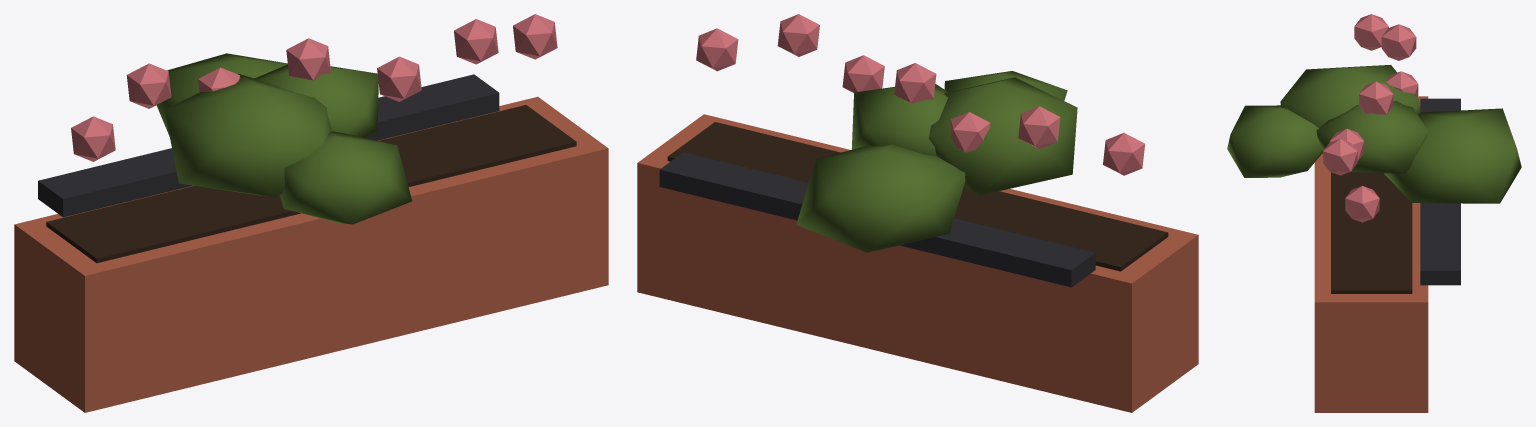
File: city_balcony_planter.glb
3 renders of one model, left to right at view 1: azimuth 30°, elevation 25°; view 2: azimuth 150°, elevation 25°; view 3: azimuth 270°, elevation 25°, orthographic. The views are drawn at different scales.
Visible parts, largest first — view 1: CityBalconyPlanter_Box, CityBalconyPlanter_Greens, CityBalconyPlanter_Soil, CityBalconyPlanter_Hook, CityBalconyPlanter_Blooms; view 2: CityBalconyPlanter_Box, CityBalconyPlanter_Greens, CityBalconyPlanter_Soil, CityBalconyPlanter_Hook, CityBalconyPlanter_Blooms; view 3: CityBalconyPlanter_Greens, CityBalconyPlanter_Box, CityBalconyPlanter_Soil, CityBalconyPlanter_Blooms, CityBalconyPlanter_Hook.
Part boxes in pixels (x1=…): CityBalconyPlanter_Box: x1=14, y1=96, x2=608, y2=412; CityBalconyPlanter_Greens: x1=156, y1=53, x2=412, y2=224; CityBalconyPlanter_Soil: x1=46, y1=105, x2=576, y2=262; CityBalconyPlanter_Hook: x1=38, y1=74, x2=499, y2=217; CityBalconyPlanter_Blooms: x1=71, y1=14, x2=557, y2=161; CityBalconyPlanter_Box: x1=637, y1=114, x2=1198, y2=412; CityBalconyPlanter_Greens: x1=796, y1=71, x2=1077, y2=252; CityBalconyPlanter_Soil: x1=667, y1=122, x2=1168, y2=271; CityBalconyPlanter_Hook: x1=659, y1=152, x2=1095, y2=287; CityBalconyPlanter_Blooms: x1=696, y1=14, x2=1144, y2=175; CityBalconyPlanter_Greens: x1=1227, y1=65, x2=1521, y2=203; CityBalconyPlanter_Box: x1=1314, y1=96, x2=1428, y2=412; CityBalconyPlanter_Soil: x1=1331, y1=172, x2=1412, y2=293; CityBalconyPlanter_Blooms: x1=1323, y1=14, x2=1418, y2=222; CityBalconyPlanter_Hook: x1=1420, y1=98, x2=1460, y2=285.
Size of the model in its own units: 1.2 by 0.62 by 0.7247.
